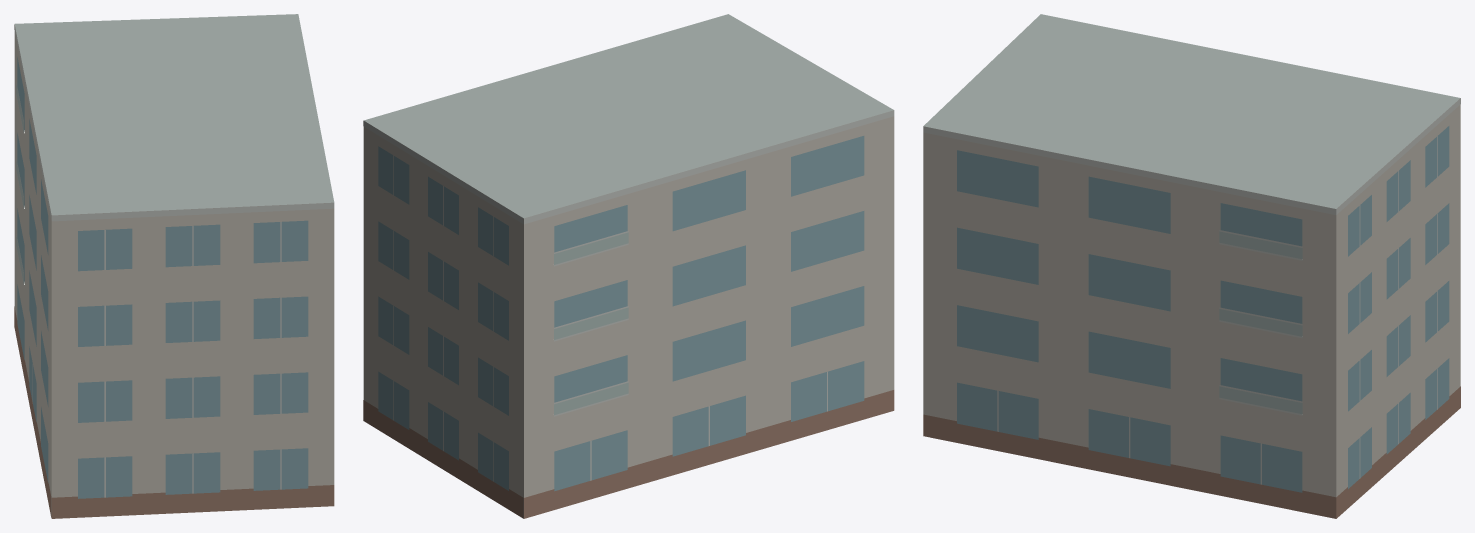
Rendered from residential-c6070714-badd-4b64-a0bf-1eba222f53df.glb.
3 views of the same model, side by side, from view 1: azimuth 30°, elevation 25°; view 2: azimuth 150°, elevation 25°; view 3: azimuth 270°, elevation 25° (orthographic). The views are drawn at different scales.
Visible parts, largest first — view 1: residential-c6070714-badd-4b64-a0bf-1eba222f53df.tmp; view 2: residential-c6070714-badd-4b64-a0bf-1eba222f53df.tmp; view 3: residential-c6070714-badd-4b64-a0bf-1eba222f53df.tmp.
Boxes of the visible parts, x1=… form: residential-c6070714-badd-4b64-a0bf-1eba222f53df.tmp: x1=14, y1=14, x2=334, y2=518; residential-c6070714-badd-4b64-a0bf-1eba222f53df.tmp: x1=363, y1=14, x2=894, y2=518; residential-c6070714-badd-4b64-a0bf-1eba222f53df.tmp: x1=923, y1=14, x2=1460, y2=518.
Bounding box in the file's own units: 16.48 × 12.2 × 19.19.
